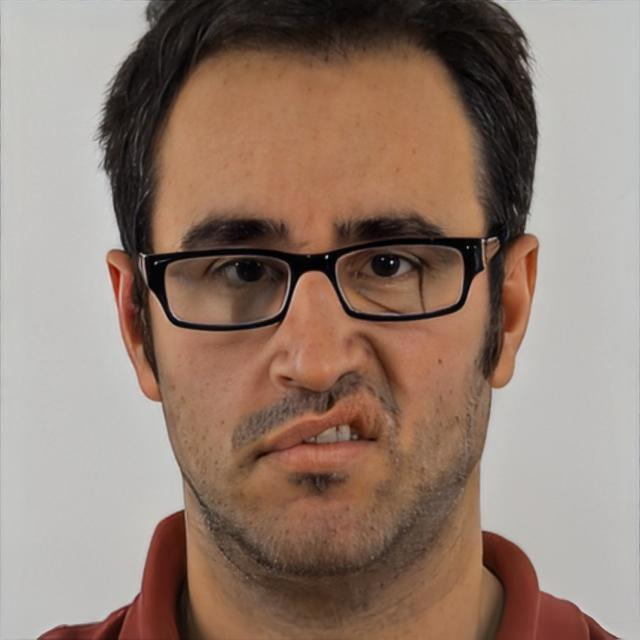disgust: (146, 27, 493, 580)
